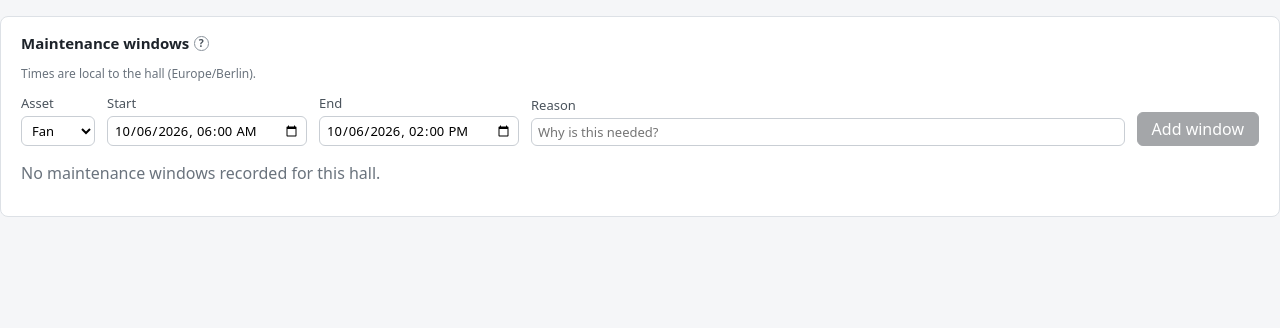
Scenario: submitting sends the reason, clears it and lists the new window
Type "Belt change" into the field named "reason" at (828, 132), box [531, 118, 1125, 146]
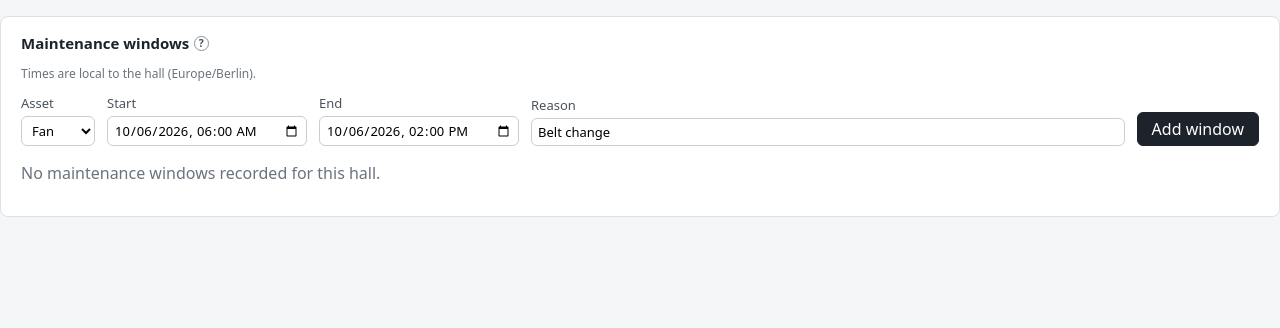
Submit the form, box [21, 94, 1259, 146]
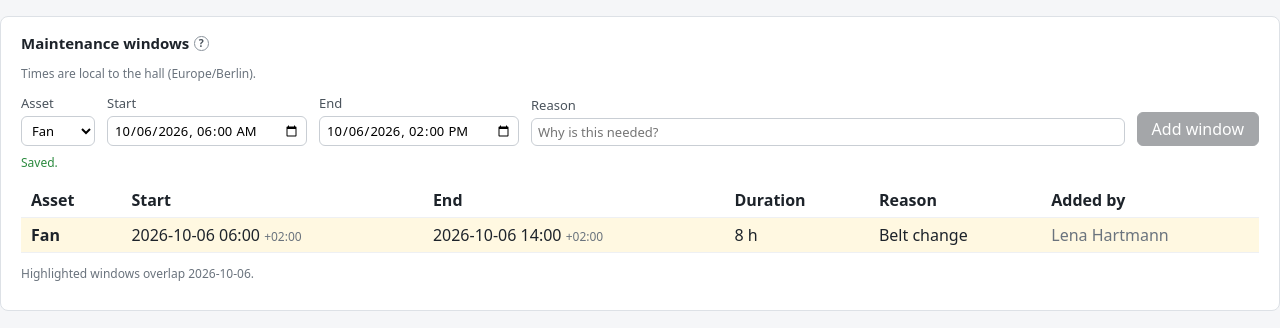
Now the field named "reason" is empty, box [531, 118, 1125, 146]
Now the table shows "Belt change", box [879, 224, 968, 246]
Now the table shows "Lena Hartmann", box [1051, 224, 1169, 246]
